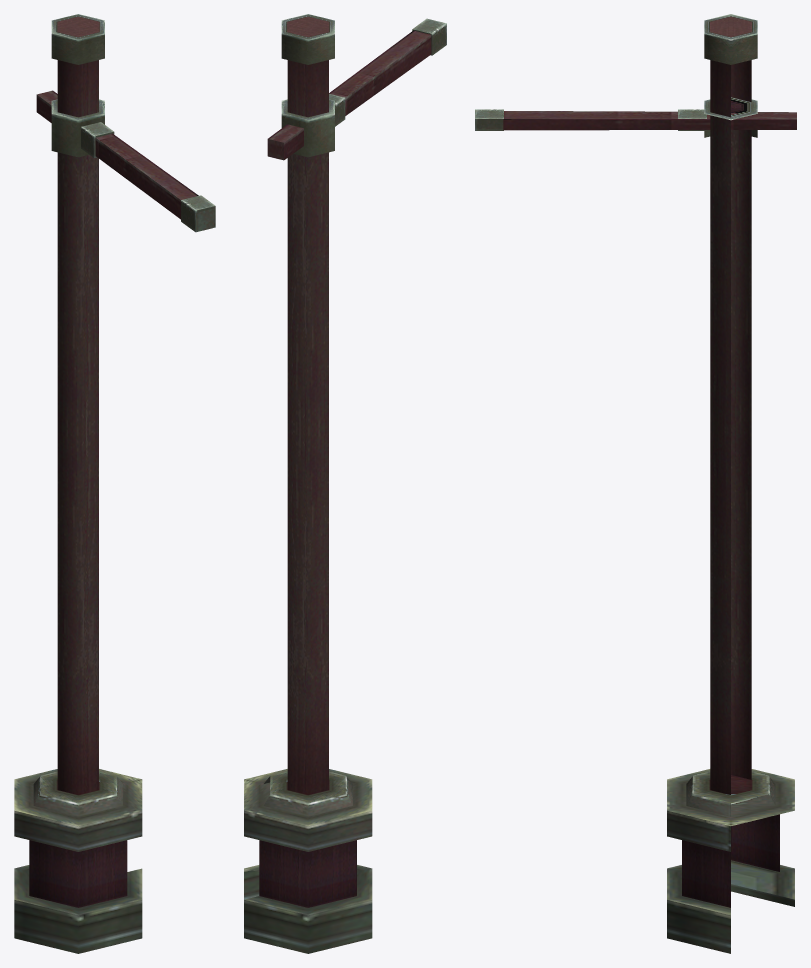
File: zc_suzhou_dengzhu.FBX
The picture shows the model from 3 angles, left to right: view 1: azimuth 30°, elevation 25°; view 2: azimuth 150°, elevation 25°; view 3: azimuth 270°, elevation 25°; orthographic projection.
Visible parts, largest first — view 1: zc_suzhou_dengzhu; view 2: zc_suzhou_dengzhu; view 3: zc_suzhou_dengzhu.
Boxes of the visible parts, <box> form: zc_suzhou_dengzhu: <box>14,14,215,953</box>; zc_suzhou_dengzhu: <box>244,14,446,953</box>; zc_suzhou_dengzhu: <box>475,14,796,953</box>.
Size of the model in its own units: 37.76 by 252 by 82.12.
1 material, 1 textured.
